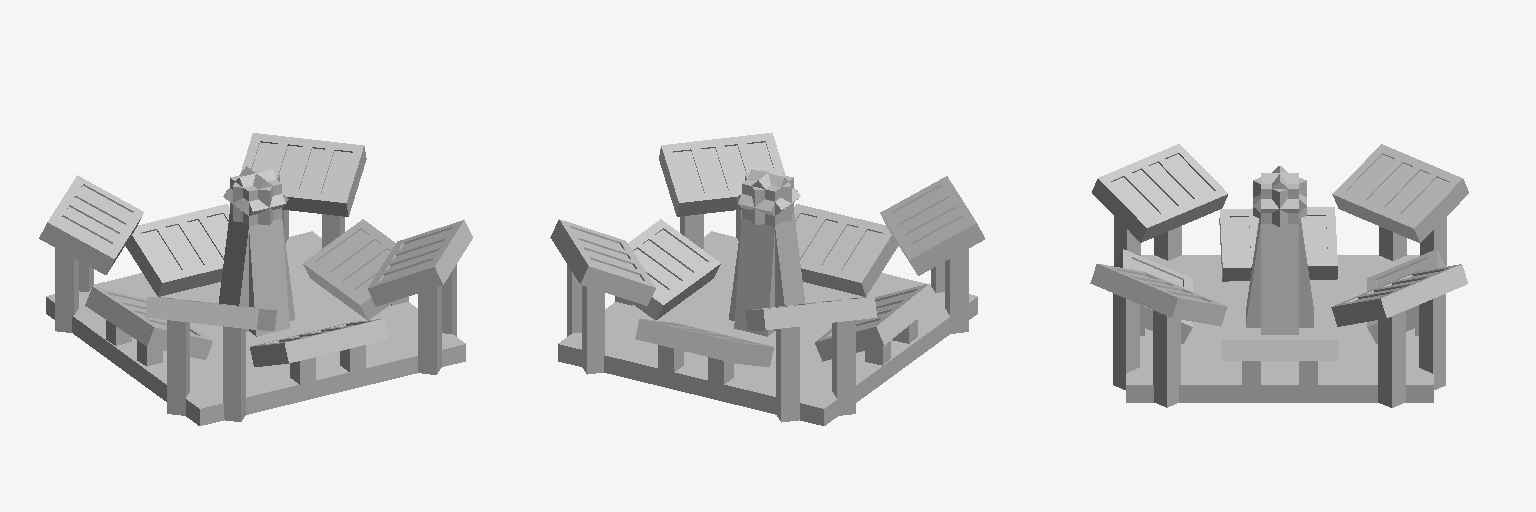
File: preobrazovatlsunrays3.obj
3 views of the same model, side by side, from view 1: azimuth 30°, elevation 25°; view 2: azimuth 150°, elevation 25°; view 3: azimuth 270°, elevation 25° (orthographic).
Parts seen in each view (by area): view 1: cube.000, cube.069, cube.002, cube.009, cube.049, cube.079, cube.041, cube.059, cube.031, cube.021, cube.004, cube.067 (+15 smaller); view 2: cube.000, cube.079, cube.003, cube.041, cube.059, cube.069, cube.009, cube.049, cube.021, cube.057, cube.031, cube.004 (+16 smaller); view 3: cube.000, cube.001, cube.049, cube.059, cube.069, cube.079, cube.078, cube.087, cube.031, cube.021, cube.088, cube.077 (+21 smaller).
Part boxes in pixels (left/top/right/bottom): cube.000: left=46, top=231, right=465, bottom=425; cube.069: left=252, top=142, right=366, bottom=216; cube.002: left=249, top=219, right=289, bottom=336; cube.009: left=125, top=214, right=228, bottom=296; cube.049: left=39, top=185, right=141, bottom=274; cube.079: left=368, top=222, right=472, bottom=306; cube.041: left=250, top=321, right=388, bottom=366; cube.059: left=145, top=298, right=276, bottom=330; cube.031: left=85, top=288, right=211, bottom=359; cube.021: left=304, top=230, right=394, bottom=319; cube.004: left=219, top=213, right=248, bottom=331; cube.067: left=223, top=326, right=245, bottom=421; cube.000: left=558, top=231, right=977, bottom=425; cube.079: left=659, top=142, right=773, bottom=216; cube.003: left=734, top=219, right=774, bottom=336; cube.041: left=795, top=214, right=898, bottom=296; cube.059: left=882, top=186, right=984, bottom=275; cube.069: left=550, top=221, right=654, bottom=305; cube.009: left=635, top=321, right=773, bottom=366; cube.049: left=746, top=299, right=876, bottom=330; cube.021: left=628, top=230, right=719, bottom=319; cube.057: left=776, top=327, right=799, bottom=422; cube.031: left=815, top=285, right=937, bottom=361; cube.004: left=775, top=213, right=804, bottom=330; cube.000: left=1126, top=255, right=1433, bottom=402; cube.001: left=1261, top=224, right=1298, bottom=334; cube.049: left=1333, top=155, right=1468, bottom=242; cube.059: left=1092, top=154, right=1227, bottom=242; cube.069: left=1332, top=266, right=1467, bottom=326; cube.079: left=1090, top=265, right=1226, bottom=326; cube.078: left=1378, top=311, right=1405, bottom=407; cube.087: left=1153, top=310, right=1180, bottom=407; cube.031: left=1219, top=216, right=1337, bottom=281; cube.021: left=1222, top=342, right=1337, bottom=360; cube.088: left=1113, top=293, right=1139, bottom=389; cube.077: left=1419, top=294, right=1445, bottom=389.
Size of the model in its own units: 1.23 by 0.5937 by 1.23.